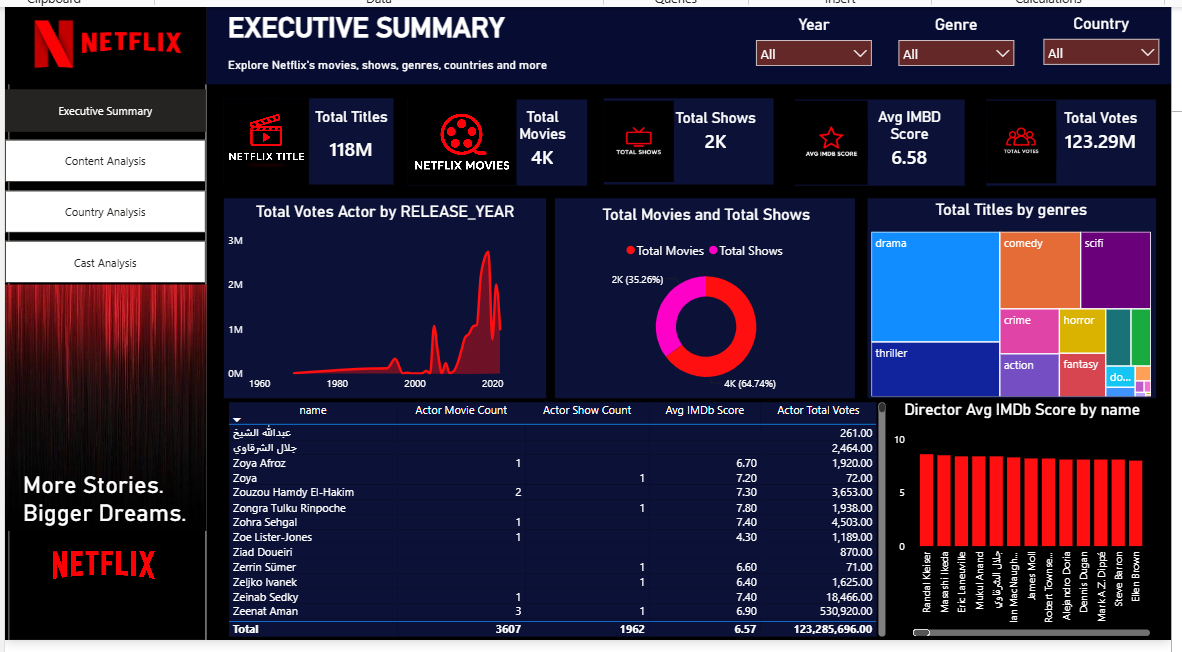

This screenshot's page, from the dashboard's own definition file:
{"tool":"powerbi","page":{"name":"Executive Summary","canvas":[1412,767],"ordinal":0},"visuals":[{"type":"shape","box":[4.5,0,239.2,767.5],"z":0},{"type":"shape","box":[243.7,0,1168.6,93.9],"z":1000},{"type":"textbox","box":[264.9,0,354.2,56],"z":2000},{"type":"textbox","box":[264.9,56,596.4,54.5],"z":3000},{"type":"pageNavigator","box":[0,93.9,243.7,242.2],"z":4000},{"type":"image","box":[0,0,243.7,93.9],"z":5000},{"type":"image","box":[16.7,634.3,205.9,89.3],"z":6000},{"type":"image","box":[0,336,243.7,298.2],"z":7000},{"type":"textbox","box":[16.7,557.1,216.5,210.4],"z":8000},{"type":"shape","box":[264.9,110.5,205.9,104.4],"z":9000},{"type":"shape","box":[725.1,110.5,205.9,104.4],"z":10000},{"type":"shape","box":[487.4,112,218,104.4],"z":11000},{"type":"shape","box":[956.7,112,205.9,104.4],"z":12000},{"type":"shape","box":[1188.3,112,205.9,104.4],"z":13000},{"type":"shape","box":[264.9,231.6,390.5,242.2],"z":14000},{"type":"shape","box":[666,231.6,363.3,242.2],"z":15000},{"type":"shape","box":[1044.5,231.6,349.7,242.2],"z":16000},{"type":"cardVisual","title":"Total Titles","fields":{"Data":["Best Movie by Year Netflix.Total Titles"]},"box":[367.8,122.6,102.9,78.7],"z":17000},{"type":"image","box":[264.9,110.5,102.9,106],"z":18000},{"type":"cardVisual","title":"Total Movies","fields":{"Data":["Best Movie by Year Netflix.Total Movies"]},"box":[596.4,122.6,109,78.7],"z":19000},{"type":"cardVisual","title":"Total Shows","fields":{"Data":["Best Movie by Year Netflix.Total Shows"]},"box":[793.2,124.1,134.7,56],"z":20000},{"type":"cardVisual","title":"Avg IMBD Score","fields":{"Data":["Best Movie by Year Netflix.Average IMDb Score"]},"box":[1027.8,122.6,134.7,78.7],"z":21000},{"type":"cardVisual","title":"Total Votes","fields":{"Data":["Best Movie by Year Netflix.Total Votes"]},"box":[1259.4,124.1,134.7,56],"z":22000},{"type":"image","box":[487.4,110.5,131.7,106],"z":23000},{"type":"image","box":[725.1,113.5,84.8,98.4],"z":24000},{"type":"image","box":[956.7,113.5,87.8,101.4],"z":25000},{"type":"lineChart","fields":{"Category":["Best Shows Netflix.RELEASE_YEAR"],"Y":["Best Movie by Year Netflix.Total Titles"]},"box":[264.9,236.1,390.5,237.7],"z":26000},{"type":"donutChart","fields":{"Y":["Best Movie by Year Netflix.Total Movies","Best Movie by Year Netflix.Total Shows"]},"box":[670.6,240.7,357.2,230.1],"z":27000},{"type":"treemap","title":"Total Titles by genres","fields":{"Group":["raw_titles.genres.2"],"Values":["Best Movie by Year Netflix.Total Titles"]},"box":[1044.5,234.6,348.2,242.2],"z":28000},{"type":"slicer","title":"Year","fields":{"Values":["Best Movie by Year Netflix.RELEASE_YEAR"]},"box":[899.2,10.6,160.5,74.2],"z":29000},{"type":"slicer","title":"Genre","fields":{"Values":["raw_titles.genres.2"]},"box":[1071.7,10.6,160.5,74.2],"z":30000},{"type":"slicer","title":"Country","fields":{"Values":["Best Movie by Year Netflix.MAIN_PRODUCTION"]},"box":[1247.3,9.1,160.5,74.2],"z":31000},{"type":"image","box":[1188.3,113.5,84.8,99.9],"z":32000},{"type":"pageNavigator","box":[0,99.9,243.7,236.1],"z":33000},{"type":"tableEx","fields":{"Values":["raw_credits.name","Best Movie by Year Netflix.Actor Movie Count","Best Movie by Year Netflix.Actor Show Count","Best Movie by Year Netflix.Avg IMDb Score","Best Movie by Year Netflix.Actor Total Votes"]},"box":[264.9,473.8,806.8,293.7],"z":34000},{"type":"clusteredColumnChart","fields":{"Category":["raw_credits.name"],"Y":["Best Movie by Year Netflix.Director Avg IMDb Score"]},"box":[1072,477,320,290],"z":35000}]}

Visuals, with their boxes on the page's 1412x767 design canvas (x1, y1, x2, y2). These are canvas units, not pixel positions in the 1182x652 screenshot, which may show the page scaled, cropped or inside an application window:
shape: 4:0:244:768
shape: 244:0:1412:94
textbox: 265:0:619:56
textbox: 265:56:861:110
pageNavigator: 0:94:244:336
image: 0:0:244:94
image: 17:634:223:724
image: 0:336:244:634
textbox: 17:557:233:768
shape: 265:110:471:215
shape: 725:110:931:215
shape: 487:112:705:216
shape: 957:112:1163:216
shape: 1188:112:1394:216
shape: 265:232:655:474
shape: 666:232:1029:474
shape: 1044:232:1394:474
"Total Titles" cardVisual: 368:123:471:201
image: 265:110:368:216
"Total Movies" cardVisual: 596:123:705:201
"Total Shows" cardVisual: 793:124:928:180
"Avg IMBD Score" cardVisual: 1028:123:1162:201
"Total Votes" cardVisual: 1259:124:1394:180
image: 487:110:619:216
image: 725:114:810:212
image: 957:114:1044:215
lineChart - Best Shows Netflix.RELEASE_YEAR x Best Movie by Year Netflix.Total Titles: 265:236:655:474
donutChart - Best Movie by Year Netflix.Total Movies x Best Movie by Year Netflix.Total Shows: 671:241:1028:471
"Total Titles by genres" treemap: 1044:235:1393:477
"Year" slicer: 899:11:1060:85
"Genre" slicer: 1072:11:1232:85
"Country" slicer: 1247:9:1408:83
image: 1188:114:1273:213
pageNavigator: 0:100:244:336
tableEx - raw_credits.name x Best Movie by Year Netflix.Actor Movie Count: 265:474:1072:768
clusteredColumnChart - raw_credits.name x Best Movie by Year Netflix.Director Avg IMDb Score: 1072:477:1392:767
